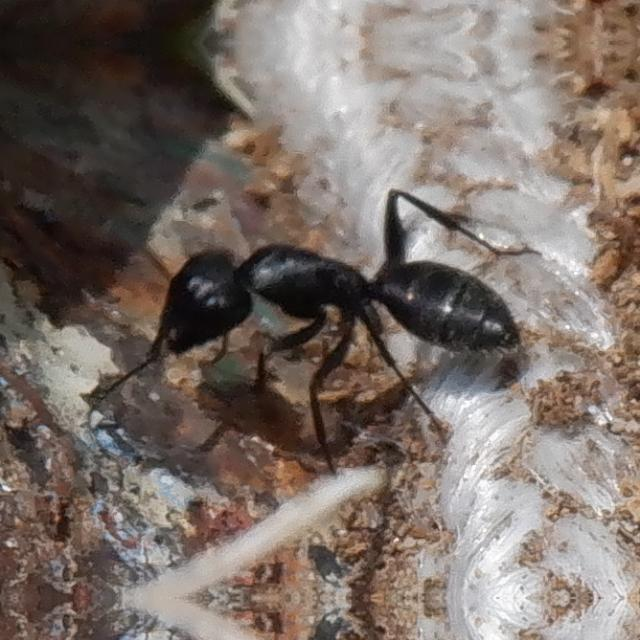Camponotus: (97, 185, 556, 419)
